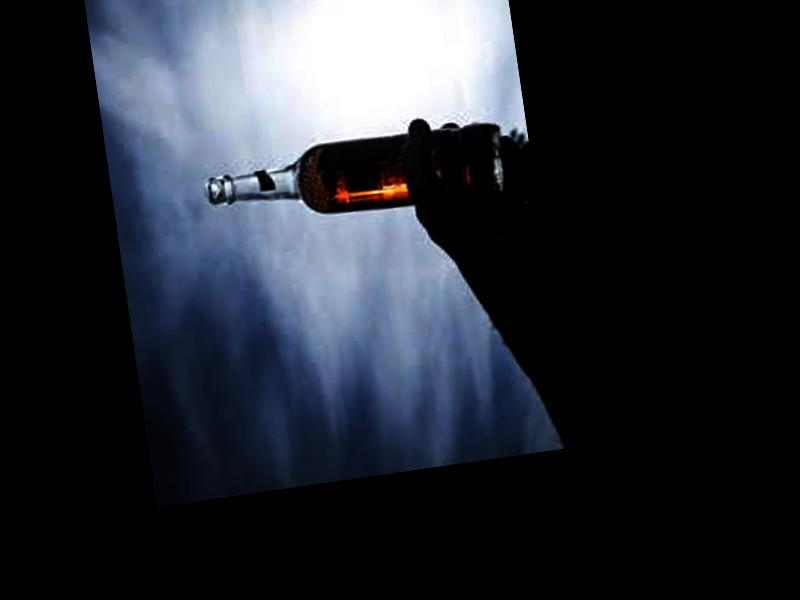Beer: (203, 123, 503, 233)
